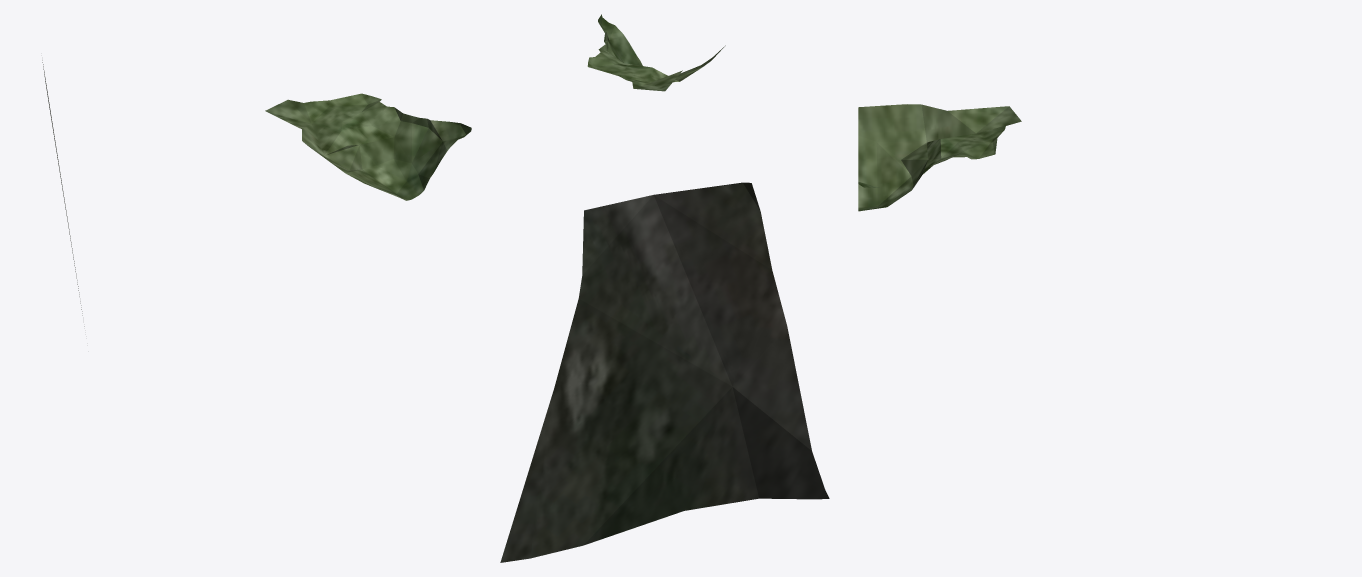
3 renders of one model, left to right at view 1: azimuth 30°, elevation 25°; view 2: azimuth 150°, elevation 25°; view 3: azimuth 270°, elevation 25°, orthographic. The views are drawn at different scales.
Bounding box in the file's own units: 2.36 × 2.95 × 2.95.
Materials: 2 (2 with a texture image).
